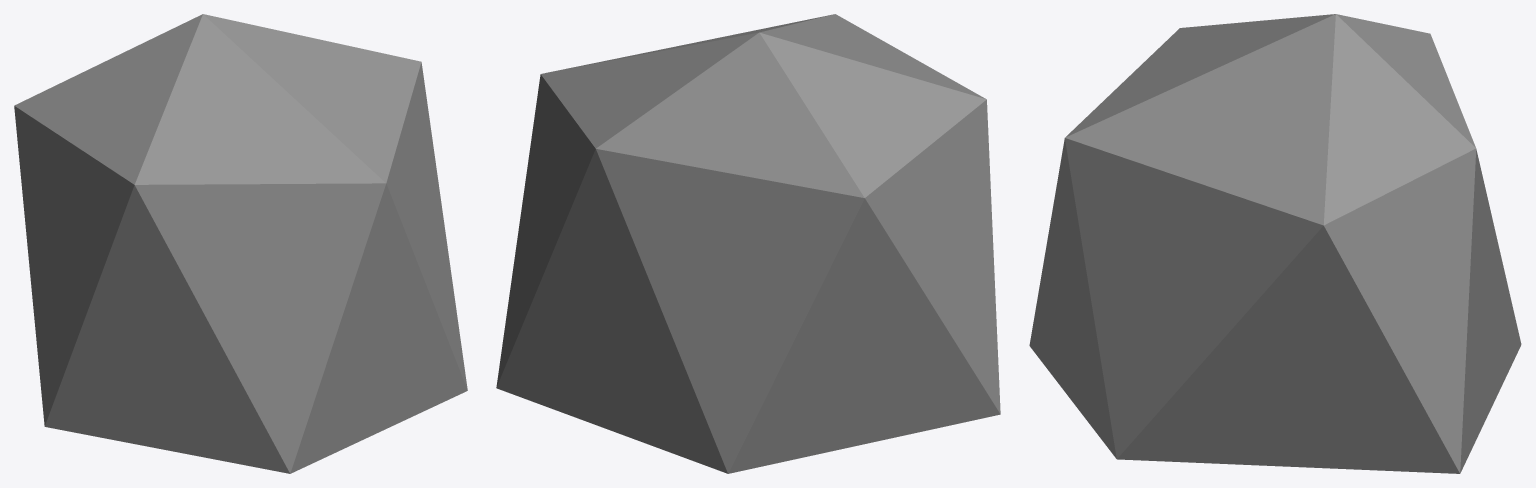
The model's file is Rock_Middle01.fbx.
3 views of the same model, side by side, from view 1: azimuth 30°, elevation 25°; view 2: azimuth 150°, elevation 25°; view 3: azimuth 270°, elevation 25° (orthographic). The views are drawn at different scales.
Visible parts, largest first — view 1: Rock_Middle01; view 2: Rock_Middle01; view 3: Rock_Middle01.
Part boxes in pixels (box(x1,y1,x2,y2)): Rock_Middle01: box(14, 14, 467, 473); Rock_Middle01: box(496, 14, 1000, 473); Rock_Middle01: box(1029, 14, 1521, 473).
Bounding box in the file's own units: 1.65 × 1.32 × 1.63.
